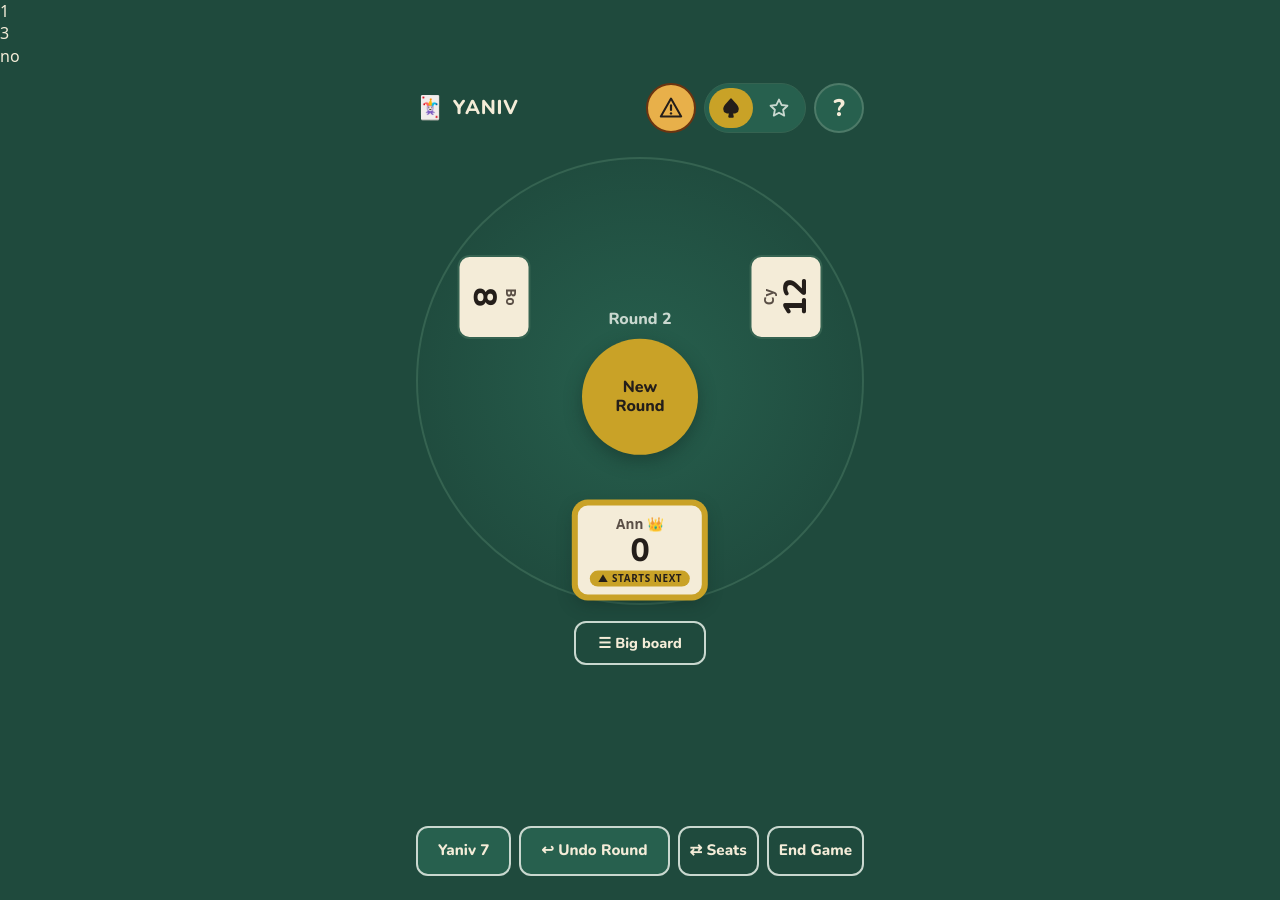
Test: PlayScreen — the four action buttons form one row group › the End button still routes through the confirmation from the shared row
The width and height of the screenshot is (1280, 900).
Click the button "End Game".
click(815, 851)  # box top-left (767, 826), bottom-right (864, 876)
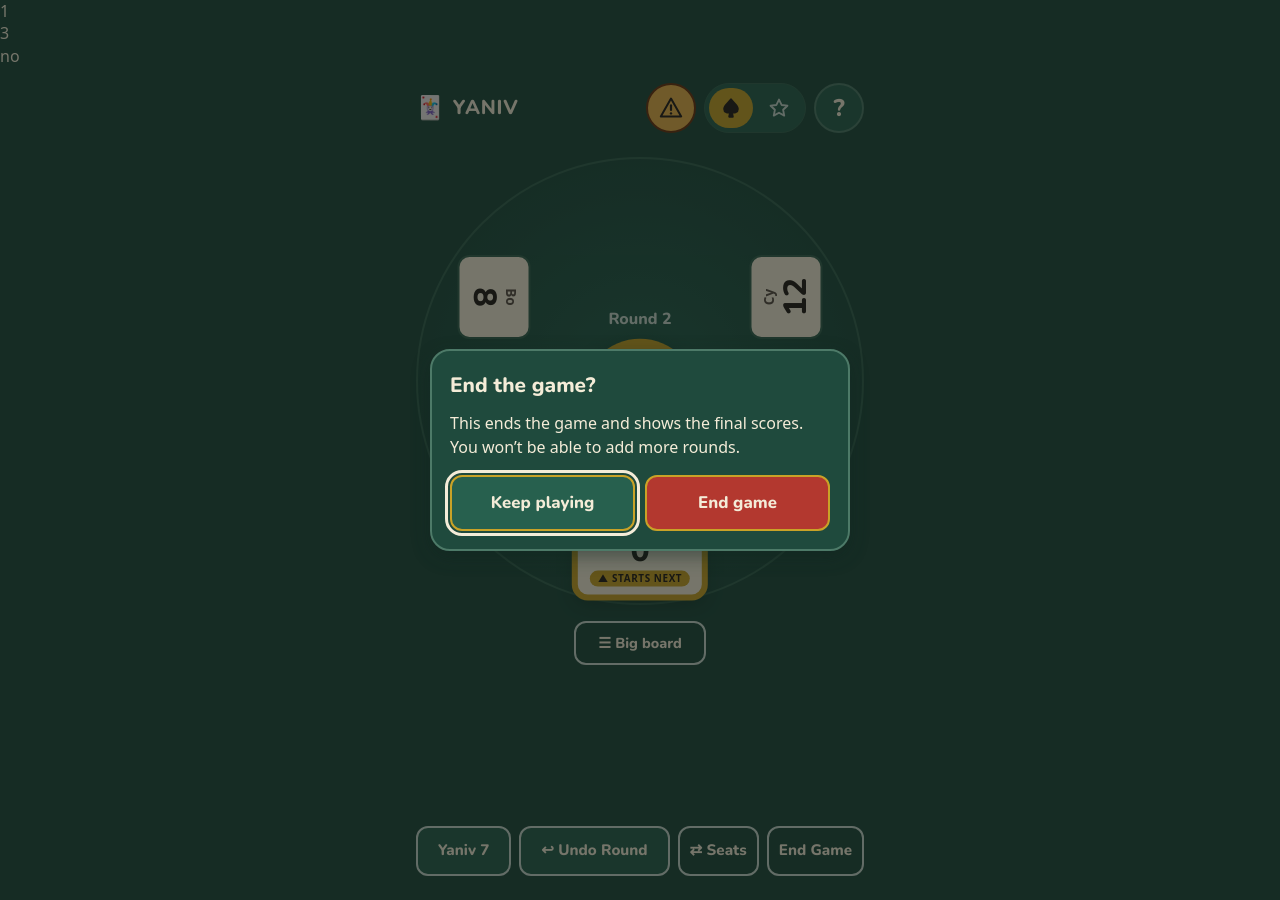
Check: the element with test id "ring-view" is shown, box top-left (416, 157), bottom-right (864, 605)
Check: the dialog with test id "confirm-end-game" is shown, box top-left (430, 349), bottom-right (850, 551)
Click the button with test id "confirm-end-game-cancel".
click(542, 503)  # box top-left (450, 475), bottom-right (635, 531)
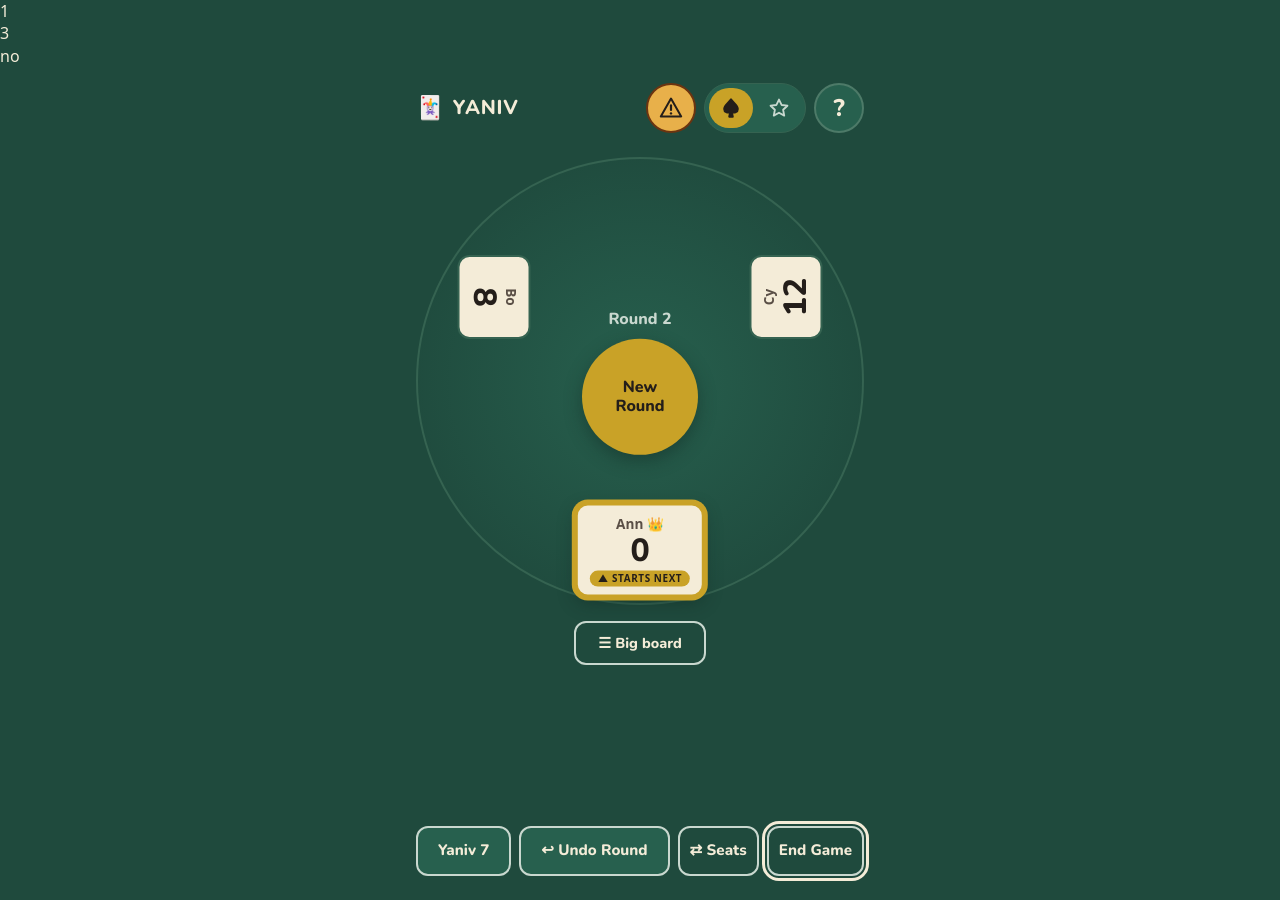
Check: the dialog with test id "confirm-end-game" is gone
